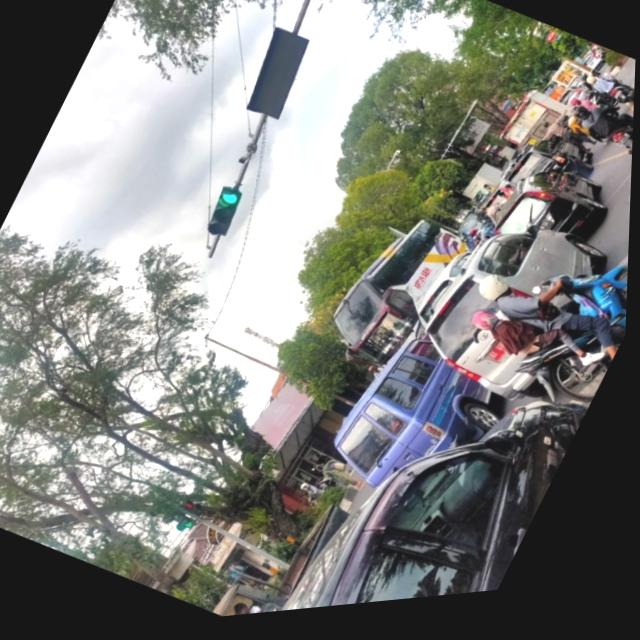Hijau: (220, 192, 241, 212)
